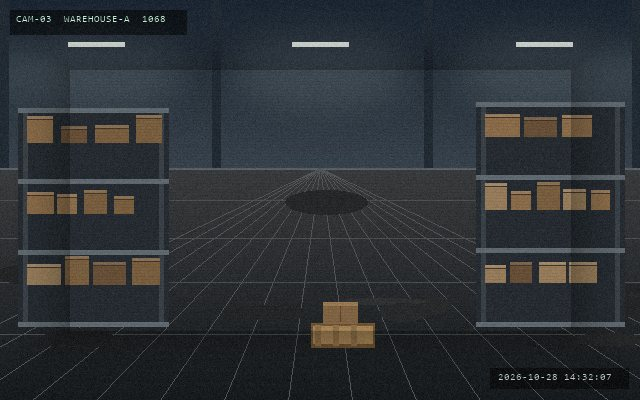pallet: (309, 321, 376, 349)
shelf: (476, 102, 624, 322), (18, 108, 168, 322)
